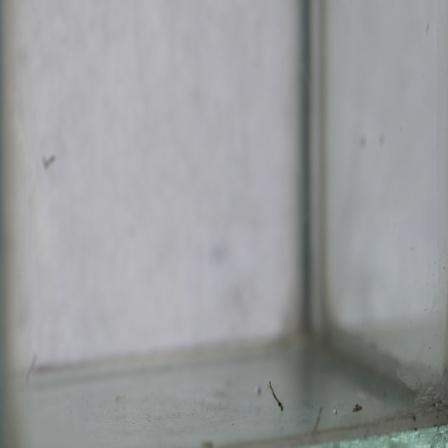Jentik-Nyamuk: (266, 377, 288, 417), (348, 398, 365, 416)
